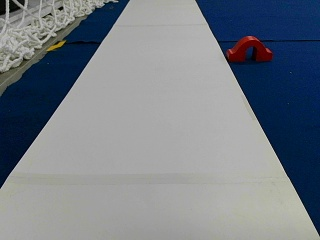bridge: (228, 36, 272, 60)
